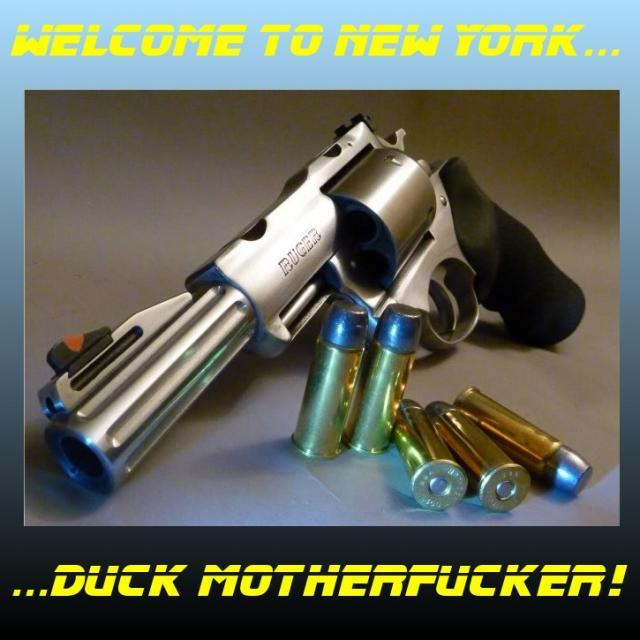gun: (32, 134, 584, 500)
